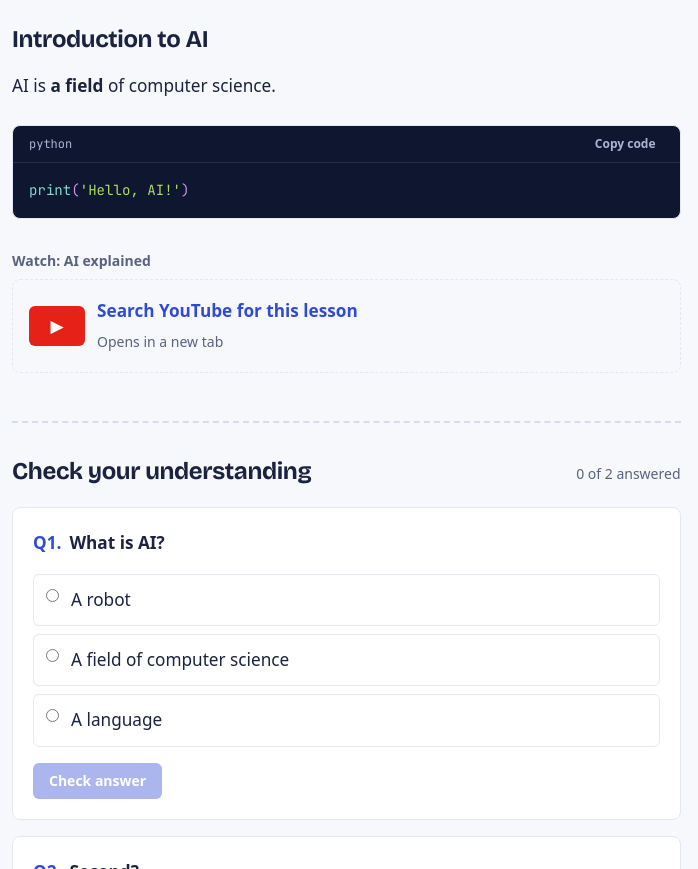
Test: LessonRenderer › grades a quiz answer and shows the explanation
This screenshot has width=698, height=869.
Click the radio button labelled "A robot" at (52, 596), box [46,589,59,602]
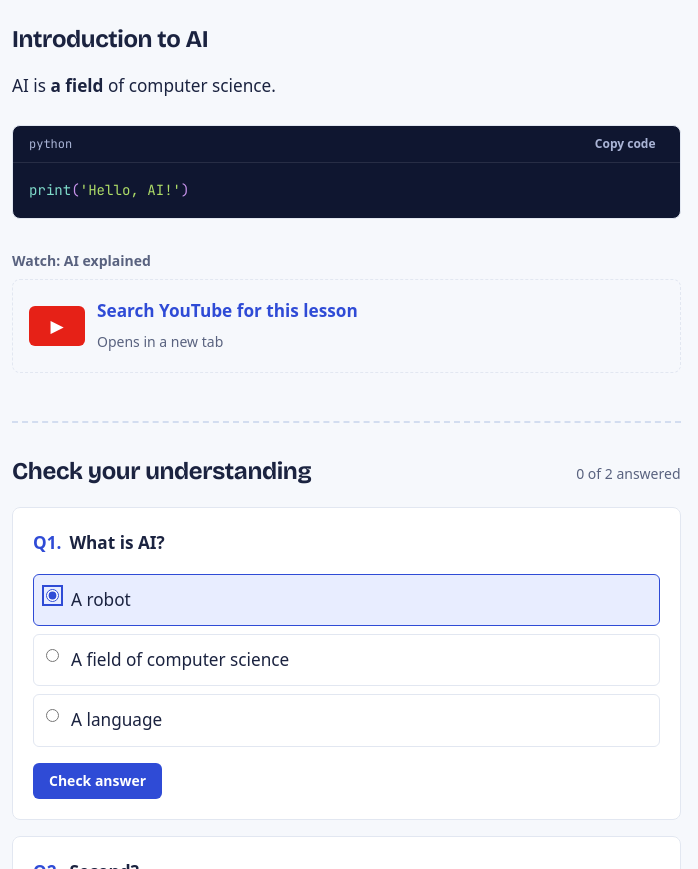
Click the button "Check answer" at (98, 780), box [33,762,162,798]
(page scrolled)
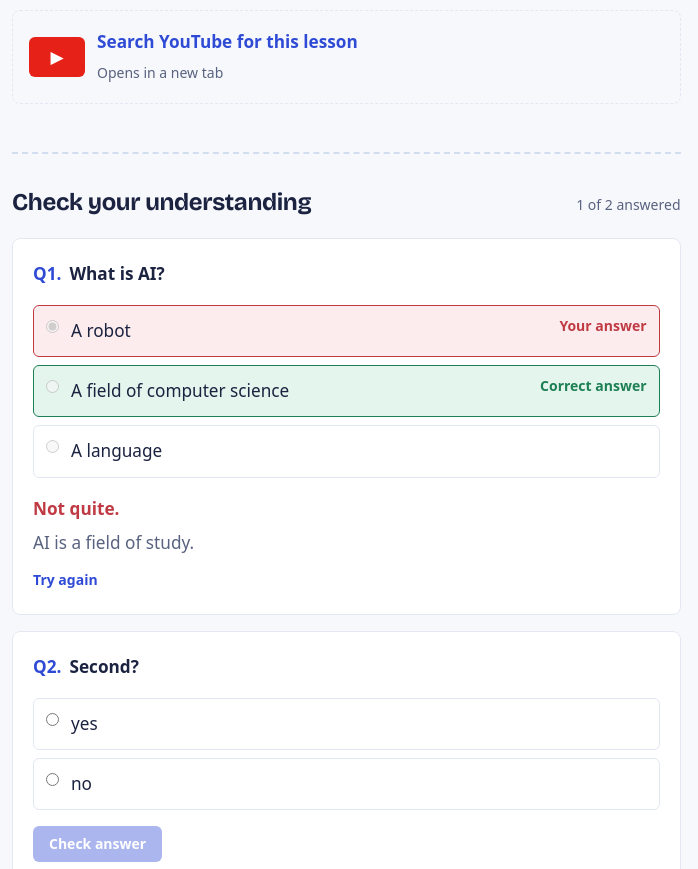
Check: the text "Not quite." is shown, box [33,496,120,520]
Check: the text "AI is a field of study." is shown, box [33,531,194,554]
Check: the text "1 of 2 answered" is shown, box [576,195,680,215]
Click the radio button labelled "yes" at (52, 719), box [46,713,59,726]
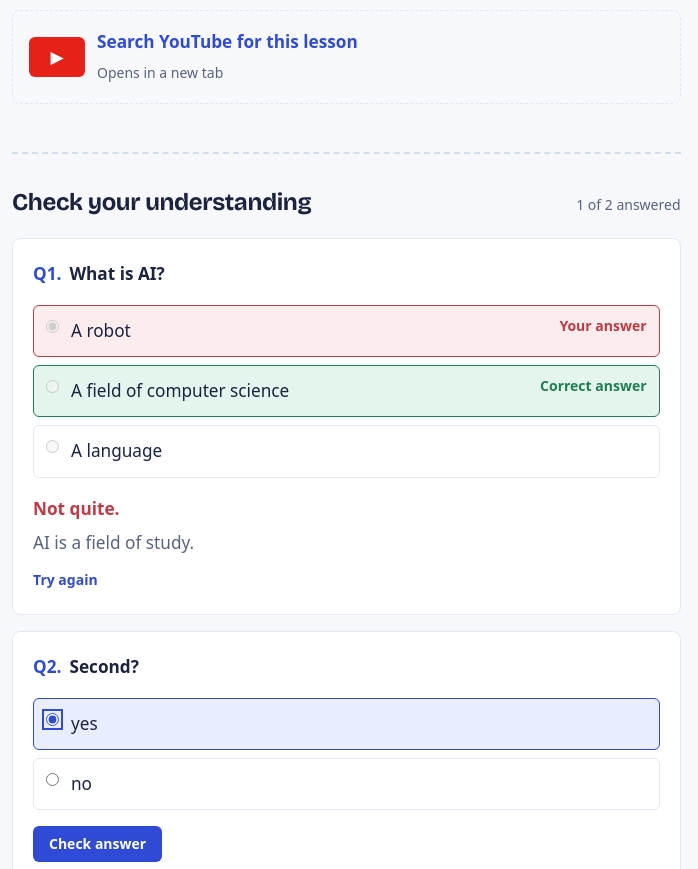
Click the button "Check answer" at (98, 844), box [33,826,162,862]
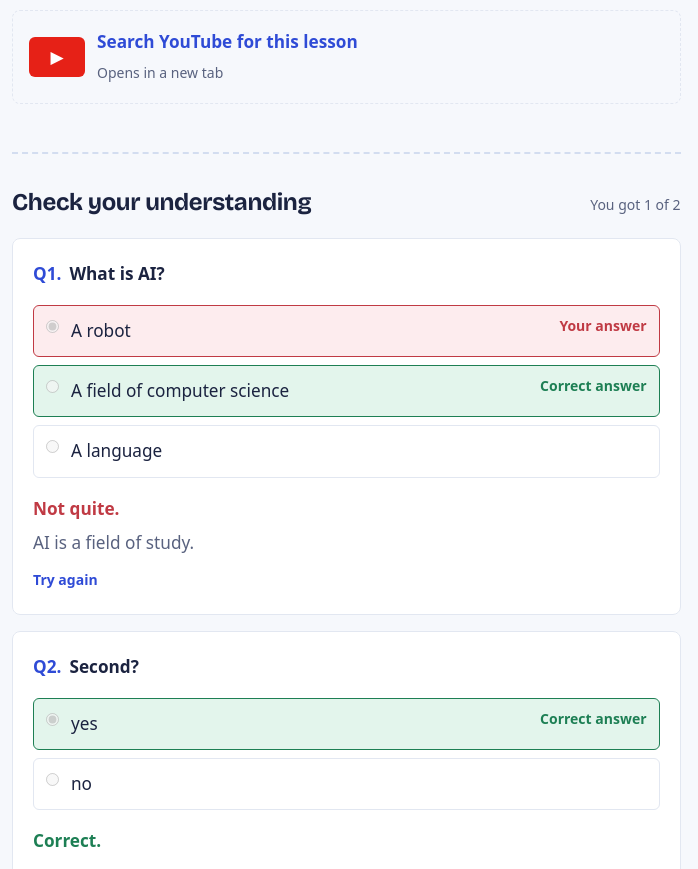
Check: the text "You got 1 of 2" is shown, box [590,195,680,215]
